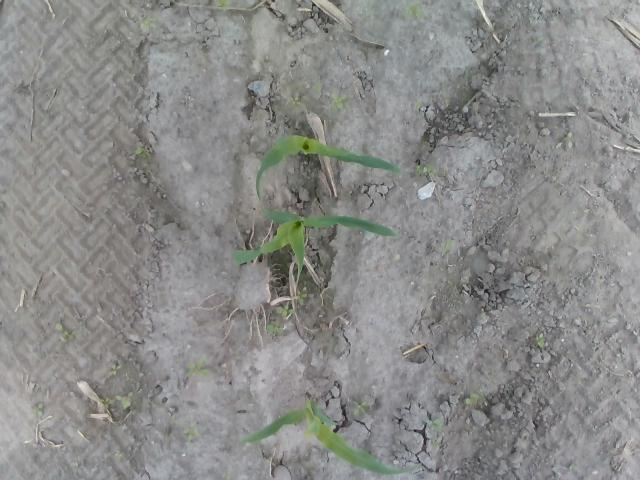Maize: (238, 396, 414, 479), (230, 200, 397, 277), (255, 127, 406, 200)
Weeds: (54, 320, 72, 342), (186, 360, 207, 377), (422, 416, 444, 432), (274, 302, 296, 318), (351, 398, 368, 418), (404, 3, 426, 18), (182, 426, 202, 442), (415, 163, 437, 176), (266, 322, 286, 336), (296, 286, 310, 306), (440, 240, 456, 256), (116, 392, 132, 408), (331, 94, 346, 110), (463, 392, 480, 404), (310, 80, 322, 96), (564, 131, 574, 149), (535, 332, 546, 348), (32, 402, 44, 416), (110, 363, 124, 375), (216, 0, 232, 9), (288, 96, 302, 106), (135, 146, 146, 158), (99, 397, 112, 407), (430, 440, 441, 450), (140, 20, 152, 28)
